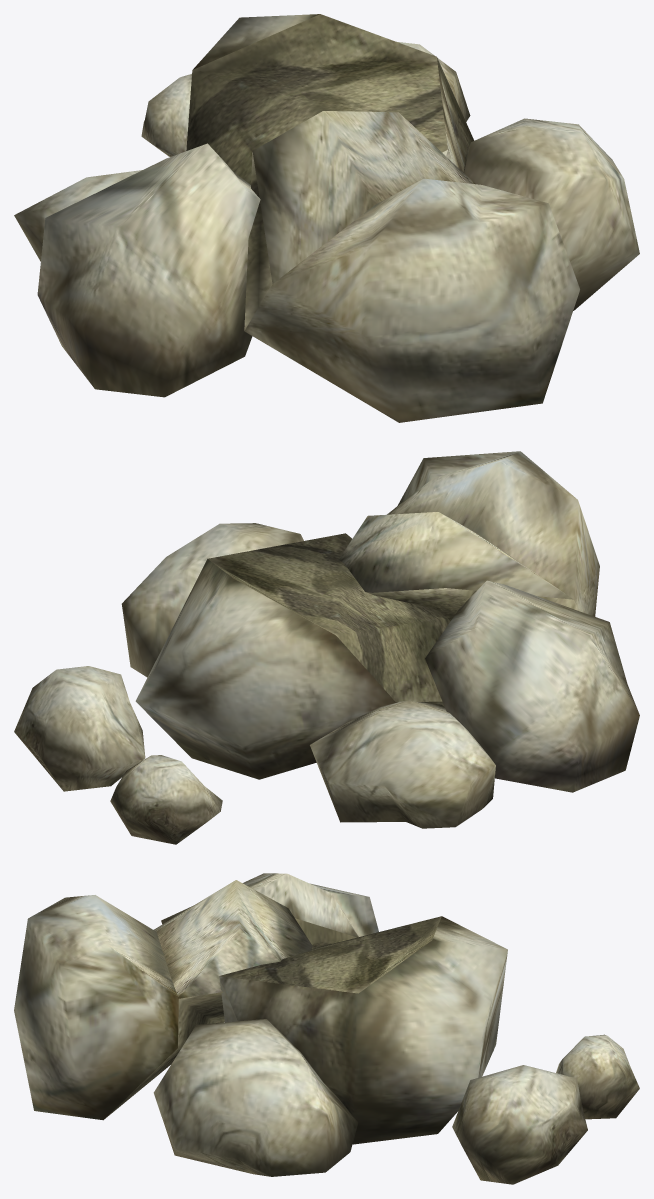
3 renders of one model, top to bottom at view 1: azimuth 30°, elevation 25°; view 2: azimuth 150°, elevation 25°; view 3: azimuth 270°, elevation 25°, orthographic. The views are drawn at different scales.
Parts seen in each view (by area): view 1: CT0061_b; view 2: CT0061_b; view 3: CT0061_b.
Part boxes in pixels (x1,y1,x2,y2): CT0061_b: (14, 14, 639, 422); CT0061_b: (14, 451, 639, 844); CT0061_b: (14, 873, 639, 1184).
Size of the model in its own units: 3.63 by 1.52 by 4.29.
1 material, 1 textured.
